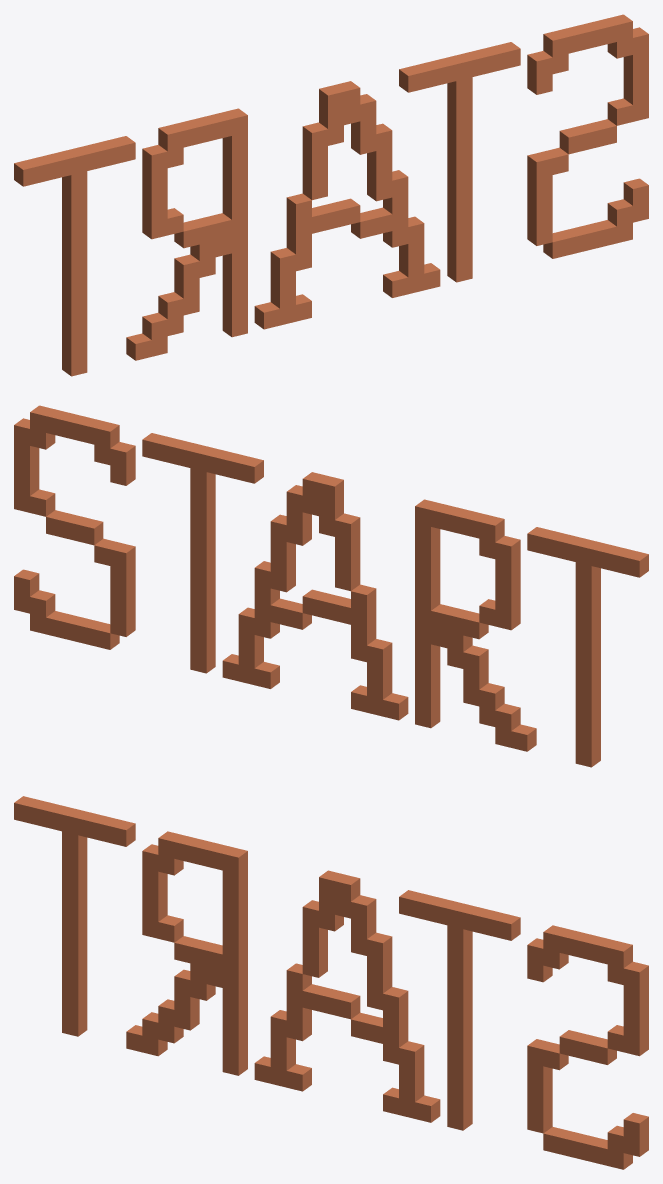
File: start.fbx
3 renders of one model, top to bottom at view 1: azimuth 30°, elevation 25°; view 2: azimuth 150°, elevation 25°; view 3: azimuth 330°, elevation 25°, orthographic.
Parts seen in each view (by area): view 1: generated; view 2: generated; view 3: generated.
Boxes of the visible parts, x1,y1,x2,y2 form: generated: (14, 14, 648, 376); generated: (14, 405, 648, 767); generated: (14, 796, 648, 1169).
Size of the model in its own units: 390 by 130 by 10.
